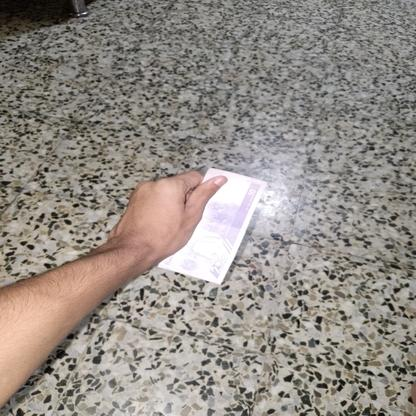ten-back-vef: (156, 168, 268, 286)
